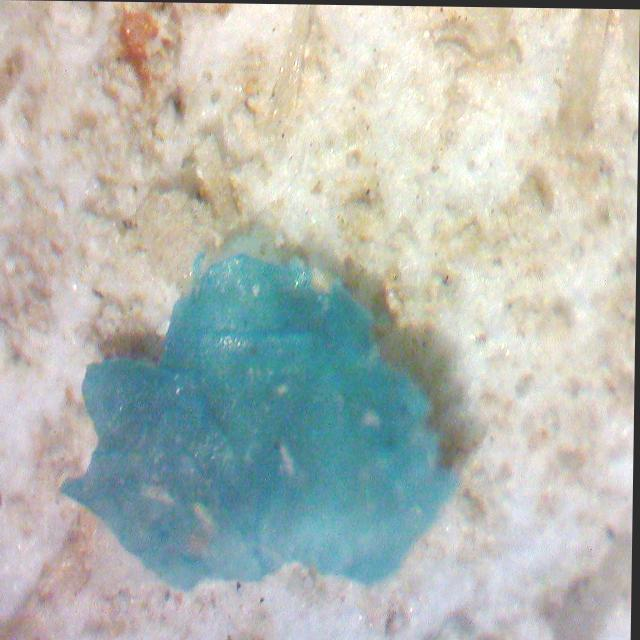microplastic: (61, 247, 465, 593)
